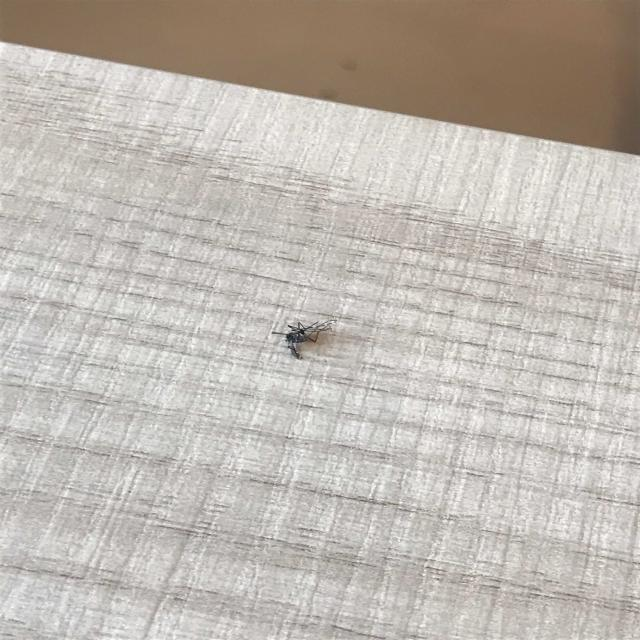albopictus: (264, 306, 339, 362)
